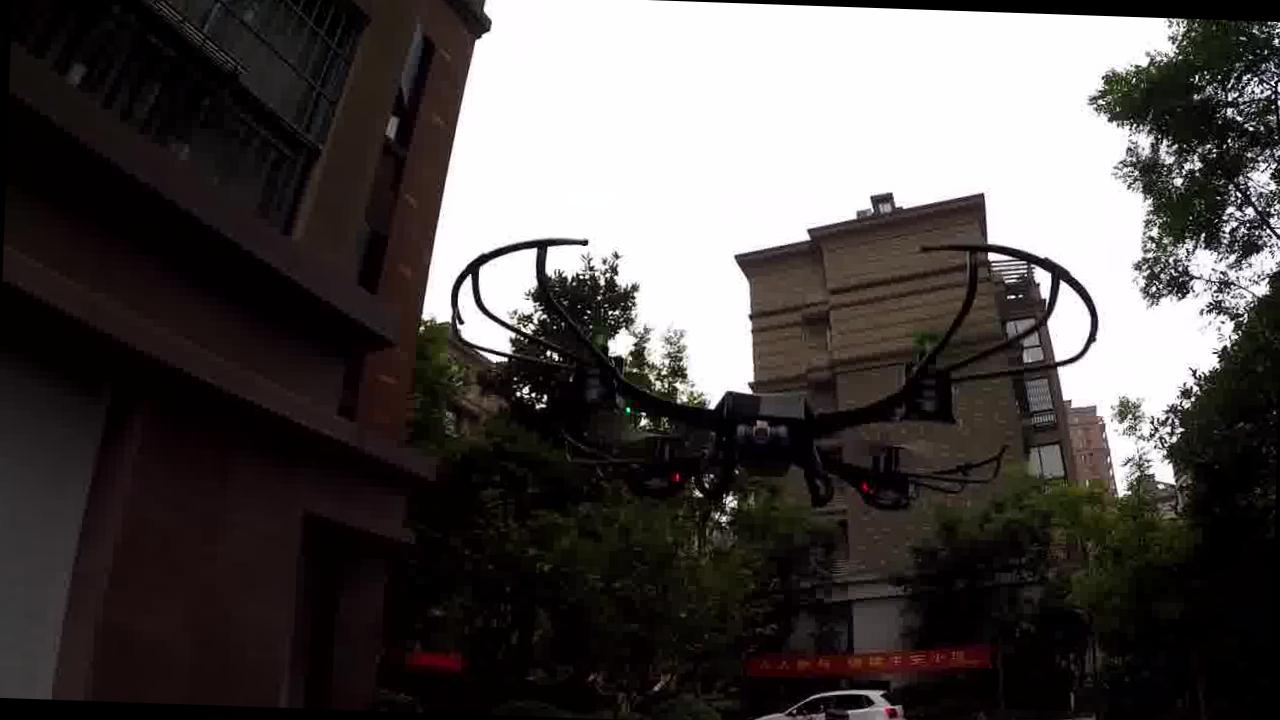drone: (410, 206, 1097, 552)
